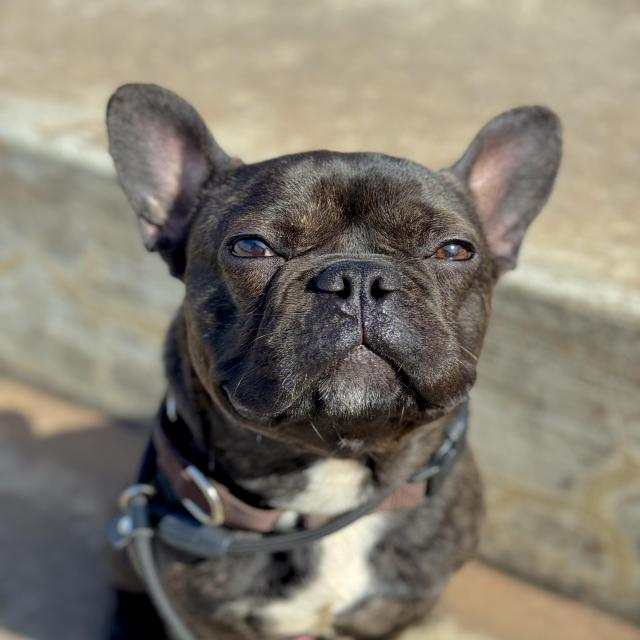french_bulldog_dog: (89, 73, 571, 477)
